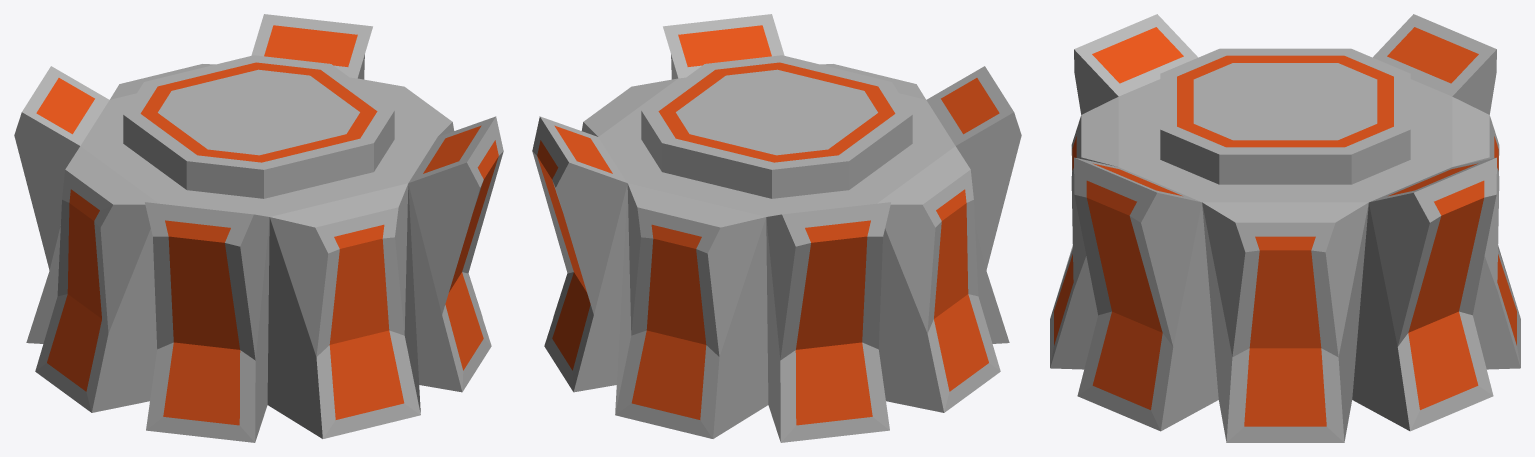
File: Wizzard Tower lev 4.1.fbx
The picture shows the model from 3 angles, left to right: view 1: azimuth 30°, elevation 25°; view 2: azimuth 150°, elevation 25°; view 3: azimuth 270°, elevation 25°; orthographic projection. The views are drawn at different scales.
Visible parts, largest first — view 1: Torre Wizzard.035; view 2: Torre Wizzard.035; view 3: Torre Wizzard.035.
Boxes of the visible parts, x1,y1,x2,y2 form: Torre Wizzard.035: (14,14,503,442); Torre Wizzard.035: (532,14,1021,442); Torre Wizzard.035: (1050,14,1520,442).
Bounding box in the file's own units: 14.11 × 8 × 14.11.
